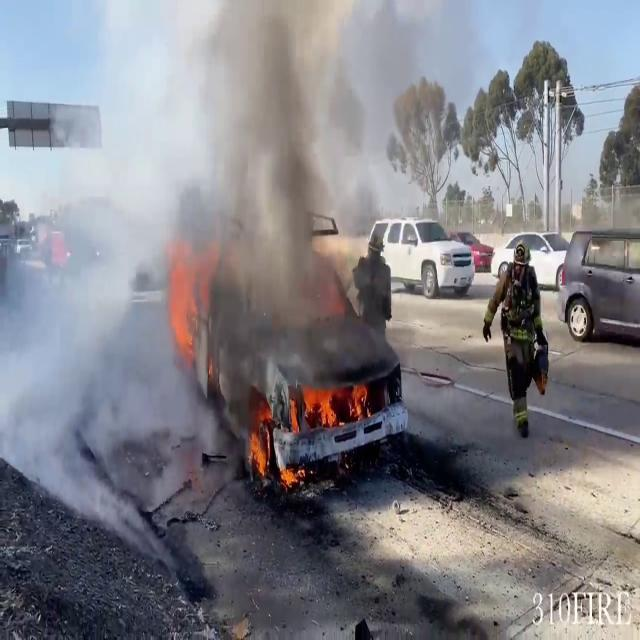Fire: (160, 226, 210, 364), (298, 372, 372, 437)
Smoke: (0, 1, 378, 513)
